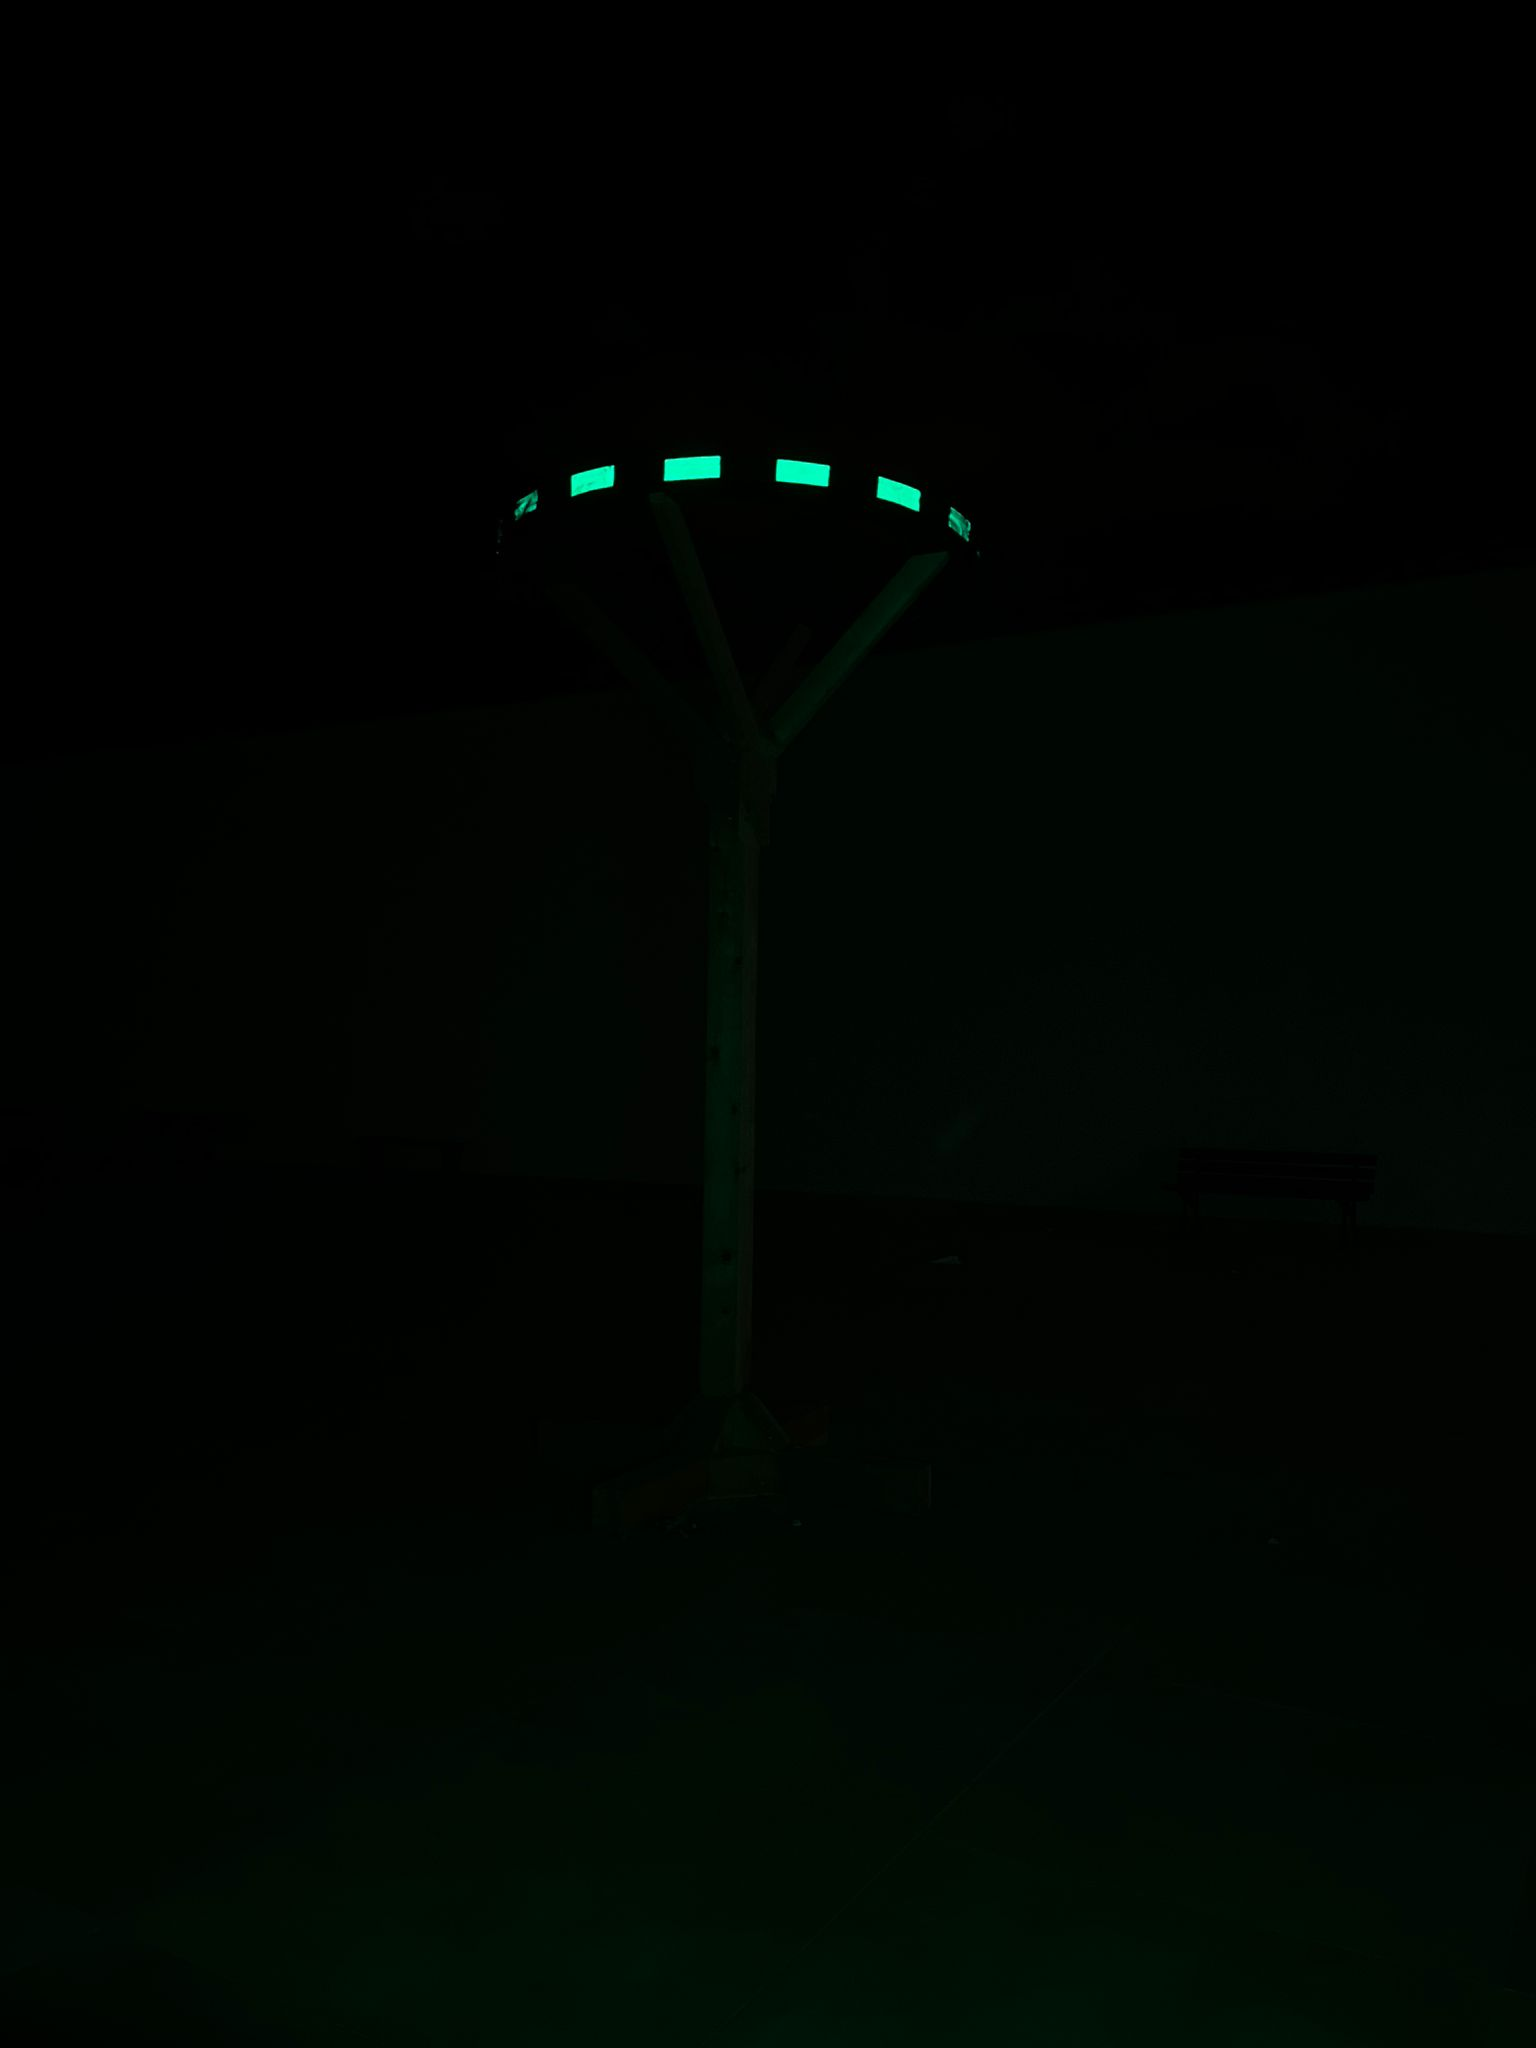hoop: (507, 445, 984, 545)
